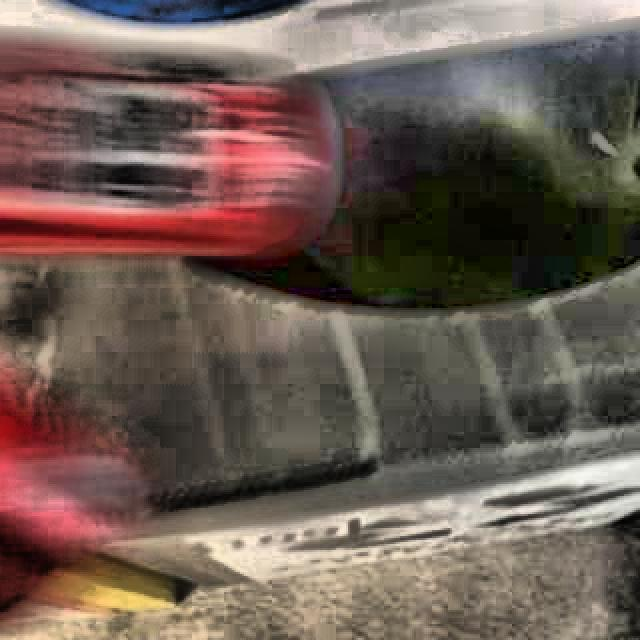metal: (0, 41, 331, 256)
